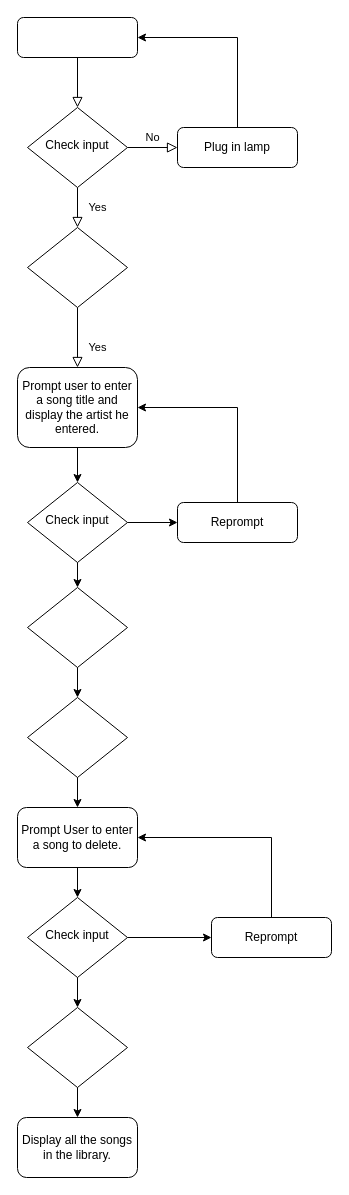
Some shapes in this 349 by 1195 pixel diagram are drawn without their labels. The shapes that lost their labels are listed below. From the top down, each one's centre as x and y in pixels, then its label:
At (x=77, y=37): "Prompt User to enter a sone".
At (x=77, y=267): "Add song to library".
At (x=77, y=627): "Get Song".
At (x=77, y=737): "Display Song".
At (x=77, y=1047): "Delete Song".
